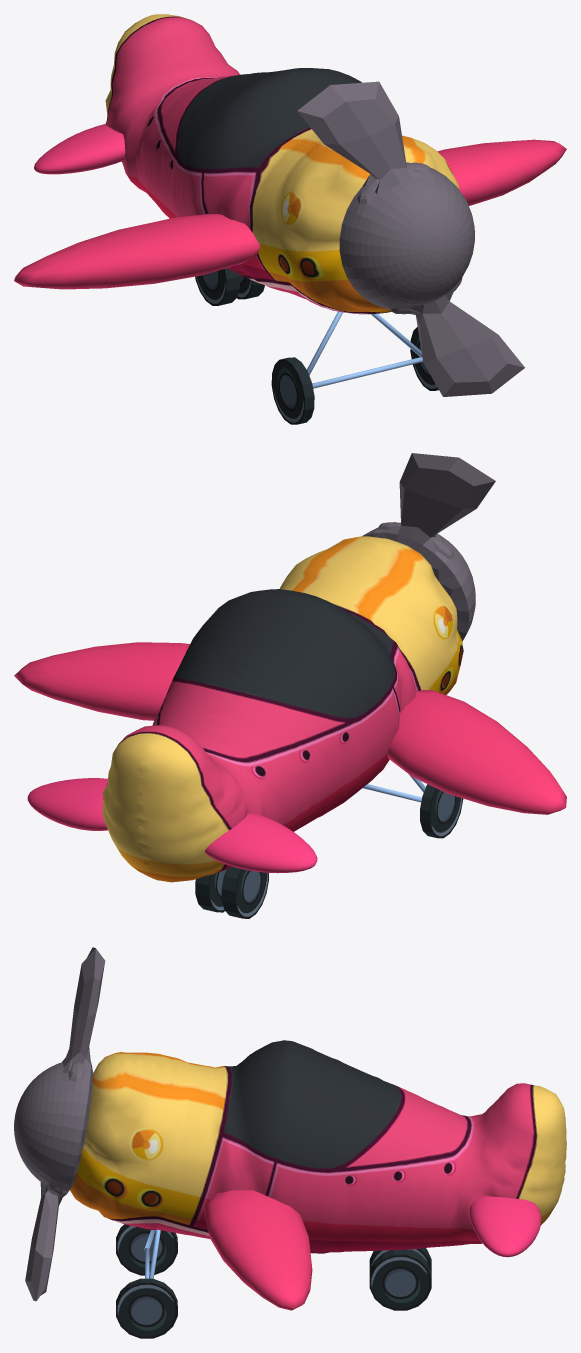
The model's file is toy_plane_n4.glb.
The picture shows the model from 3 angles, top to bottom: view 1: azimuth 30°, elevation 25°; view 2: azimuth 150°, elevation 25°; view 3: azimuth 270°, elevation 25°; orthographic projection. The views are drawn at different scales.
Visible parts, largest first — view 1: Plane; view 2: Plane; view 3: Plane.
Boxes of the visible parts, x1,y1,x2,y2 form: Plane: (14, 14, 566, 424); Plane: (14, 453, 566, 918); Plane: (14, 947, 566, 1338).
Size of the model in its own units: 8.53 by 5.25 by 7.98.
7 materials, 3 textured.
